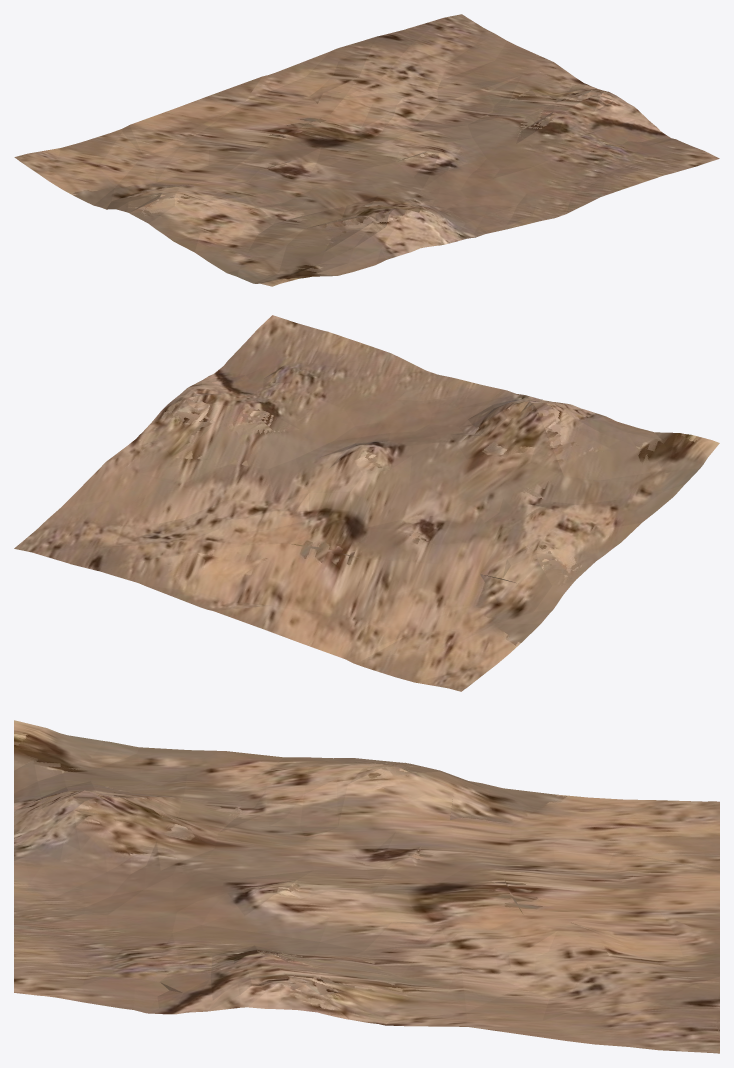
3 views of the same model, one above another, from view 1: azimuth 30°, elevation 25°; view 2: azimuth 150°, elevation 25°; view 3: azimuth 270°, elevation 25° (orthographic). The views are drawn at different scales.
Bounding box in the file's own units: 1.04 × 0.1801 × 1.04.
2 materials, 2 textured.
